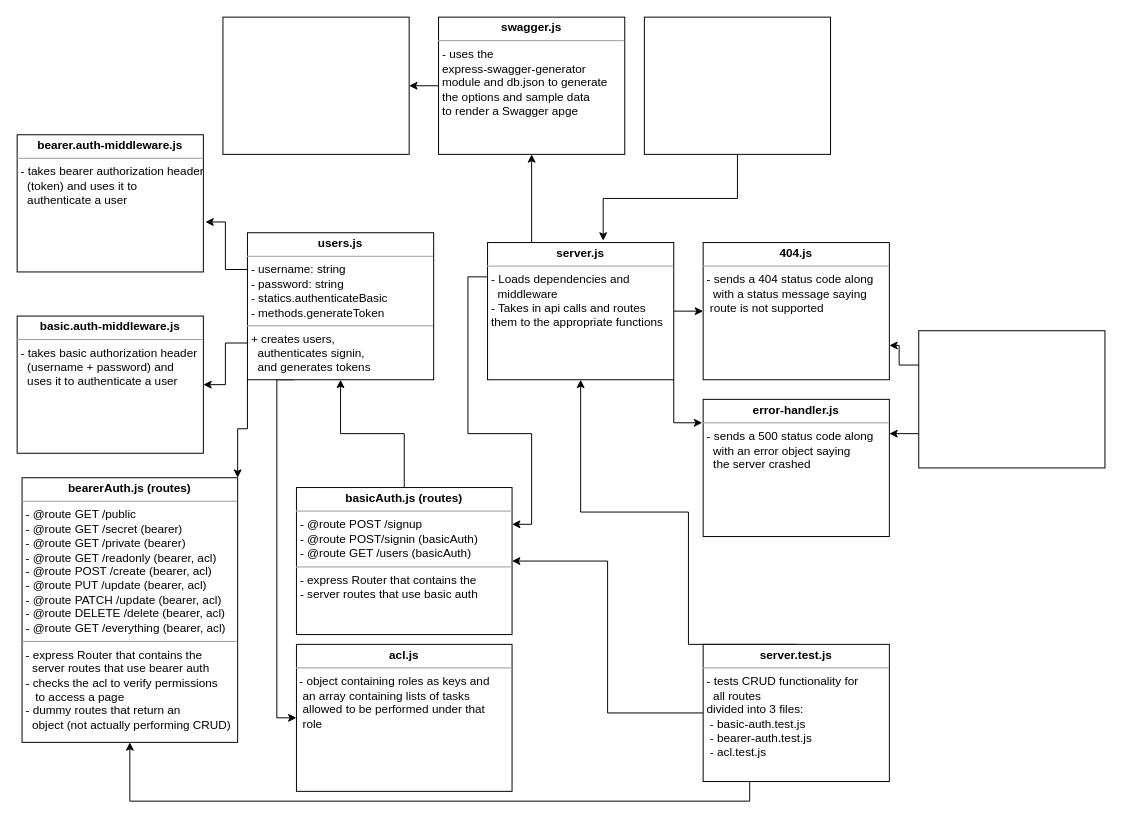
The diagram is 1122 pixels wide and 826 high, and some of its shapes have lost their labels. Each missing label, with the centre of its shape:
"db.json - contains sample data to use for Swagger examples" belongs at [315,85].
"index.js - main entrypoint - starts the server using desired configuration" belongs at [737,85].
"middleware.test.js -tests functionality middleware" belongs at [1011,399].
